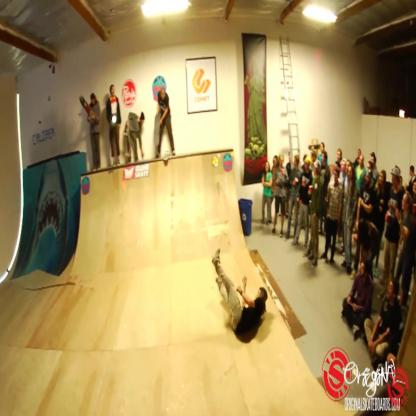Fall_Down: (210, 242, 270, 339)
